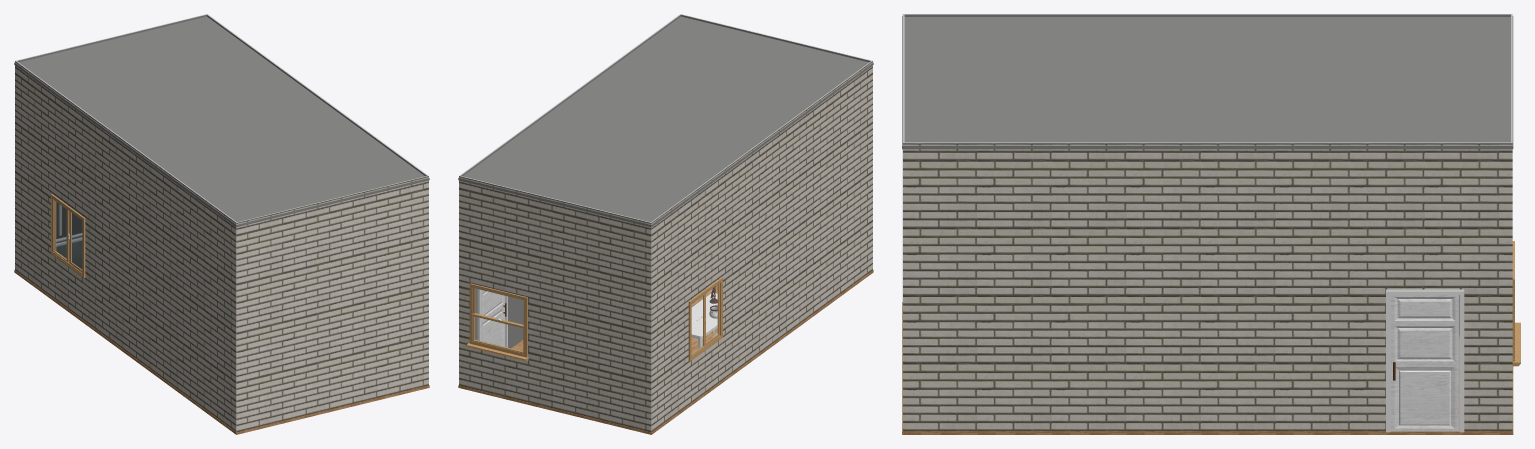
Rendered from ProcTHOR-Train-158.glb.
3 renders of one model, left to right at view 1: azimuth 30°, elevation 25°; view 2: azimuth 150°, elevation 25°; view 3: azimuth 270°, elevation 25°, orthographic. The views are drawn at different scales.
Visible parts, largest first — view 1: WallInside#wall|exterior|4.08|0.00|4.08|8.16, Ceiling#room|2|c, WallInside#wall|exterior|0.00|8.16|4.08|8.16, Floor#room|2|f, Window_Slider_48x48, Fridge_3, WallInside#wall|2|0.00|0.00|0.00|8.16, WallInside#wall|2|0.00|0.00|4.08|0.00; view 2: WallInside#wall|exterior|4.08|0.00|4.08|8.16, Ceiling#room|2|c, WallInside#wall|exterior|0.00|0.00|4.08|0.00, Floor#room|2|f, Window_Hung_48x44, Doorway_8, WallInside#wall|2|0.00|0.00|0.00|8.16, Window_Slider_48x48, Dining_Table_221_1, WallInside#wall|2|0.00|8.16|4.08|8.16; view 3: WallInside#wall|exterior|0.00|0.00|0.00|8.16, Ceiling#room|2|c, Doorway_8, Floor#room|2|f, WallInside#wall|2|4.08|0.00|4.08|8.16, Window_Hung_48x44, WallInside#wall|2|0.00|0.00|0.00|8.16, WallInside#wall|exterior|4.08|0.00|4.08|8.16.
Boxes of the visible parts, x1,y1,x2,y2 form: WallInside#wall|exterior|4.08|0.00|4.08|8.16: (15, 61, 236, 431); Ceiling#room|2|c: (14, 16, 429, 227); WallInside#wall|exterior|0.00|8.16|4.08|8.16: (236, 176, 428, 431); Floor#room|2|f: (14, 270, 429, 434); Window_Slider_48x48: (51, 194, 85, 277); Fridge_3: (56, 202, 82, 269); WallInside#wall|2|0.00|0.00|0.00|8.16: (207, 14, 427, 176); WallInside#wall|2|0.00|0.00|4.08|0.00: (17, 14, 207, 62); WallInside#wall|exterior|4.08|0.00|4.08|8.16: (651, 61, 872, 431); Ceiling#room|2|c: (458, 16, 873, 227); WallInside#wall|exterior|0.00|0.00|4.08|0.00: (459, 176, 651, 431); Floor#room|2|f: (458, 270, 873, 434); Window_Hung_48x44: (466, 283, 528, 361); Doorway_8: (477, 289, 507, 347); WallInside#wall|2|0.00|0.00|0.00|8.16: (460, 14, 680, 348); Window_Slider_48x48: (688, 277, 722, 361); Dining_Table_221_1: (691, 293, 717, 348); WallInside#wall|2|0.00|8.16|4.08|8.16: (680, 14, 871, 62); WallInside#wall|exterior|0.00|0.00|0.00|8.16: (903, 143, 1512, 431); Ceiling#room|2|c: (902, 16, 1513, 149); Doorway_8: (1386, 289, 1464, 432); Floor#room|2|f: (902, 302, 1513, 434); WallInside#wall|2|4.08|0.00|4.08|8.16: (904, 14, 1512, 16); Window_Hung_48x44: (1512, 241, 1520, 366); WallInside#wall|2|0.00|0.00|0.00|8.16: (903, 142, 1512, 142); WallInside#wall|exterior|4.08|0.00|4.08|8.16: (904, 14, 1510, 14).
Size of what is drawn, in the model's own units: 4.21 by 4.31 by 8.3.
Materials: 103 (46 with a texture image).
